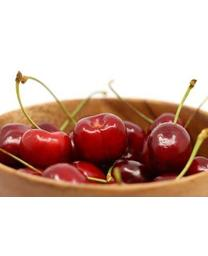cherry: (72, 112, 128, 162), (19, 127, 73, 174), (146, 122, 191, 169)
